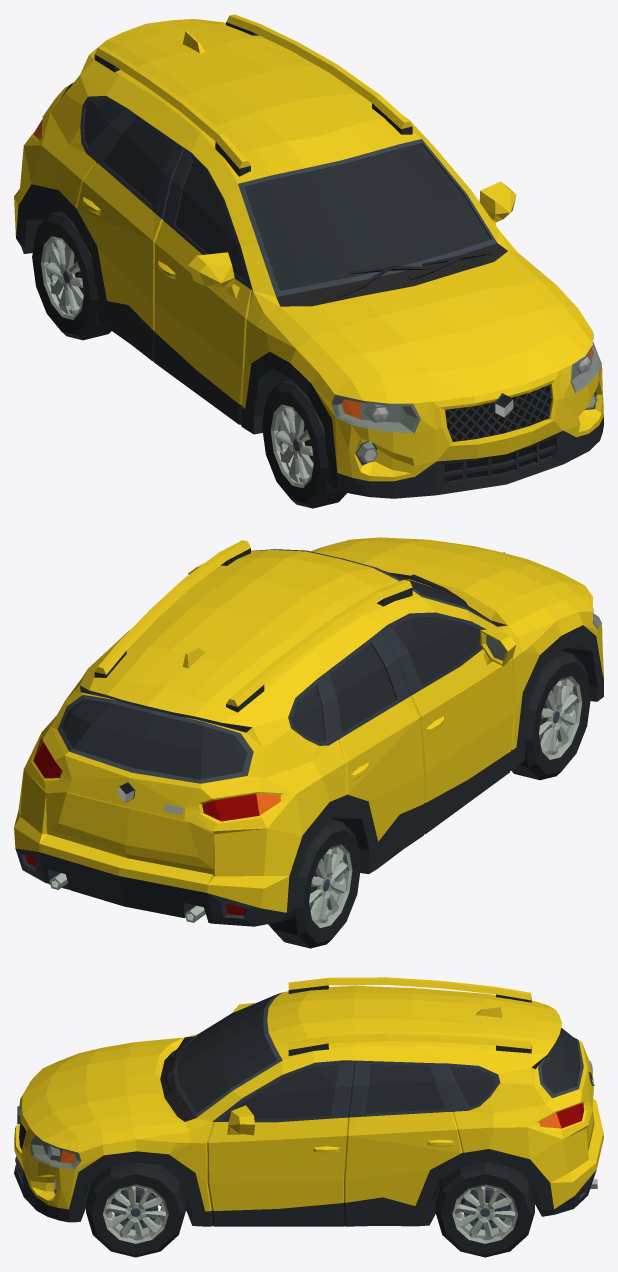
File: SUV_Yellow.fbx
3 views of the same model, one above another, from view 1: azimuth 30°, elevation 25°; view 2: azimuth 150°, elevation 25°; view 3: azimuth 270°, elevation 25° (orthographic). The views are drawn at different scales.
Visible parts, largest first — view 1: SM_Veh_Car_Medium_01.004, SM_Veh_Car_Medium_Wheel_fr.004, SM_Veh_Car_Medium_Wheel_rr.004; view 2: SM_Veh_Car_Medium_01.004, SM_Veh_Car_Medium_Wheel_rr.004, SM_Veh_Car_Medium_Wheel_fr.004; view 3: SM_Veh_Car_Medium_01.004, SM_Veh_Car_Medium_Wheel_fl.004, SM_Veh_Car_Medium_Wheel_rl.004.
Boxes of the visible parts, x1=… form: SM_Veh_Car_Medium_01.004: x1=14, y1=14, x2=603, y2=498; SM_Veh_Car_Medium_Wheel_fr.004: x1=262, y1=379, x2=346, y2=508; SM_Veh_Car_Medium_Wheel_rr.004: x1=32, y1=211, x2=111, y2=340; SM_Veh_Car_Medium_01.004: x1=14, y1=537, x2=603, y2=926; SM_Veh_Car_Medium_Wheel_rr.004: x1=268, y1=819, x2=361, y2=948; SM_Veh_Car_Medium_Wheel_fr.004: x1=511, y1=651, x2=590, y2=780; SM_Veh_Car_Medium_01.004: x1=14, y1=977, x2=603, y2=1226; SM_Veh_Car_Medium_Wheel_fl.004: x1=86, y1=1162, x2=185, y2=1257; SM_Veh_Car_Medium_Wheel_rl.004: x1=435, y1=1162, x2=534, y2=1257.
Bounding box in the file's own units: 2.48 × 1.98 × 5.22.
